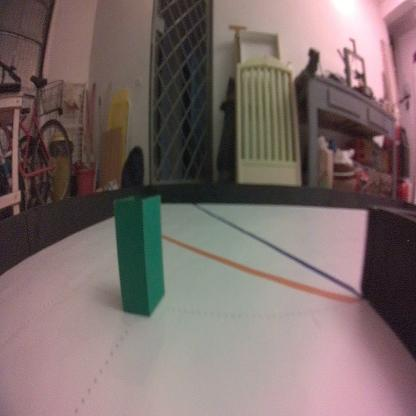green: (113, 188, 166, 317)
